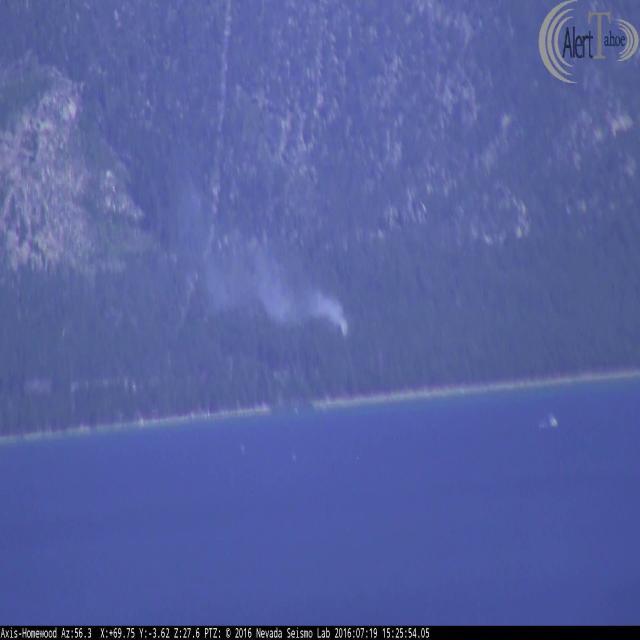smoke: (186, 216, 355, 332)
